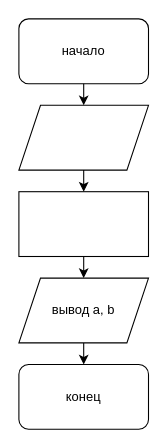
The diagram is 167 pixels wide and 448 high, and some of its shapes have lost their labels. Each missing label, with the box of its shape:
ввод x,y,z: (18, 104, 148, 170)
вычисление a,b по формулам: (18, 191, 148, 256)
